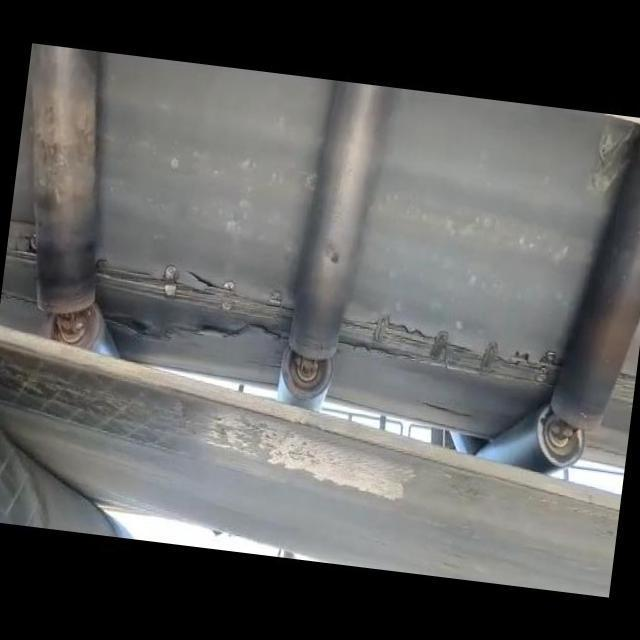Tear: (337, 312, 561, 390), (94, 248, 298, 322), (90, 311, 294, 345), (418, 400, 474, 420)
Wear: (583, 112, 640, 198)
